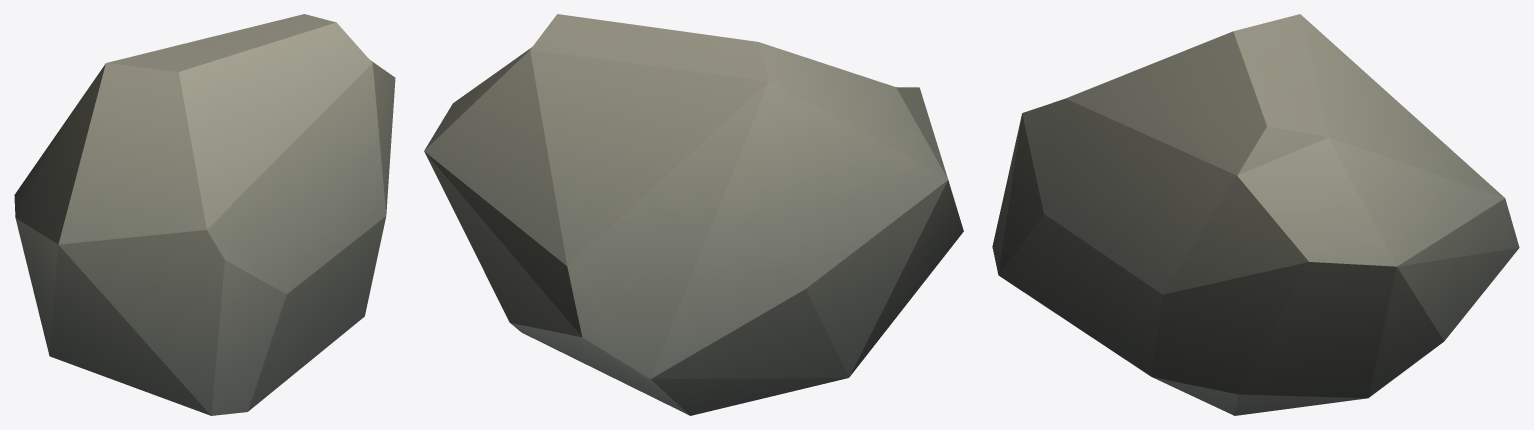
File: rock_1_03.fbx
The picture shows the model from 3 angles, left to right: view 1: azimuth 30°, elevation 25°; view 2: azimuth 150°, elevation 25°; view 3: azimuth 270°, elevation 25°; orthographic projection. The views are drawn at different scales.
Parts seen in each view (by area): view 1: rock_1_03; view 2: rock_1_03; view 3: rock_1_03.
Part boxes in pixels (left/top/right/bottom): rock_1_03: left=14, top=14, right=395, bottom=415; rock_1_03: left=424, top=14, right=963, bottom=415; rock_1_03: left=992, top=14, right=1519, bottom=415.
Size of the model in its own units: 11.02 by 8.68 by 11.75.
